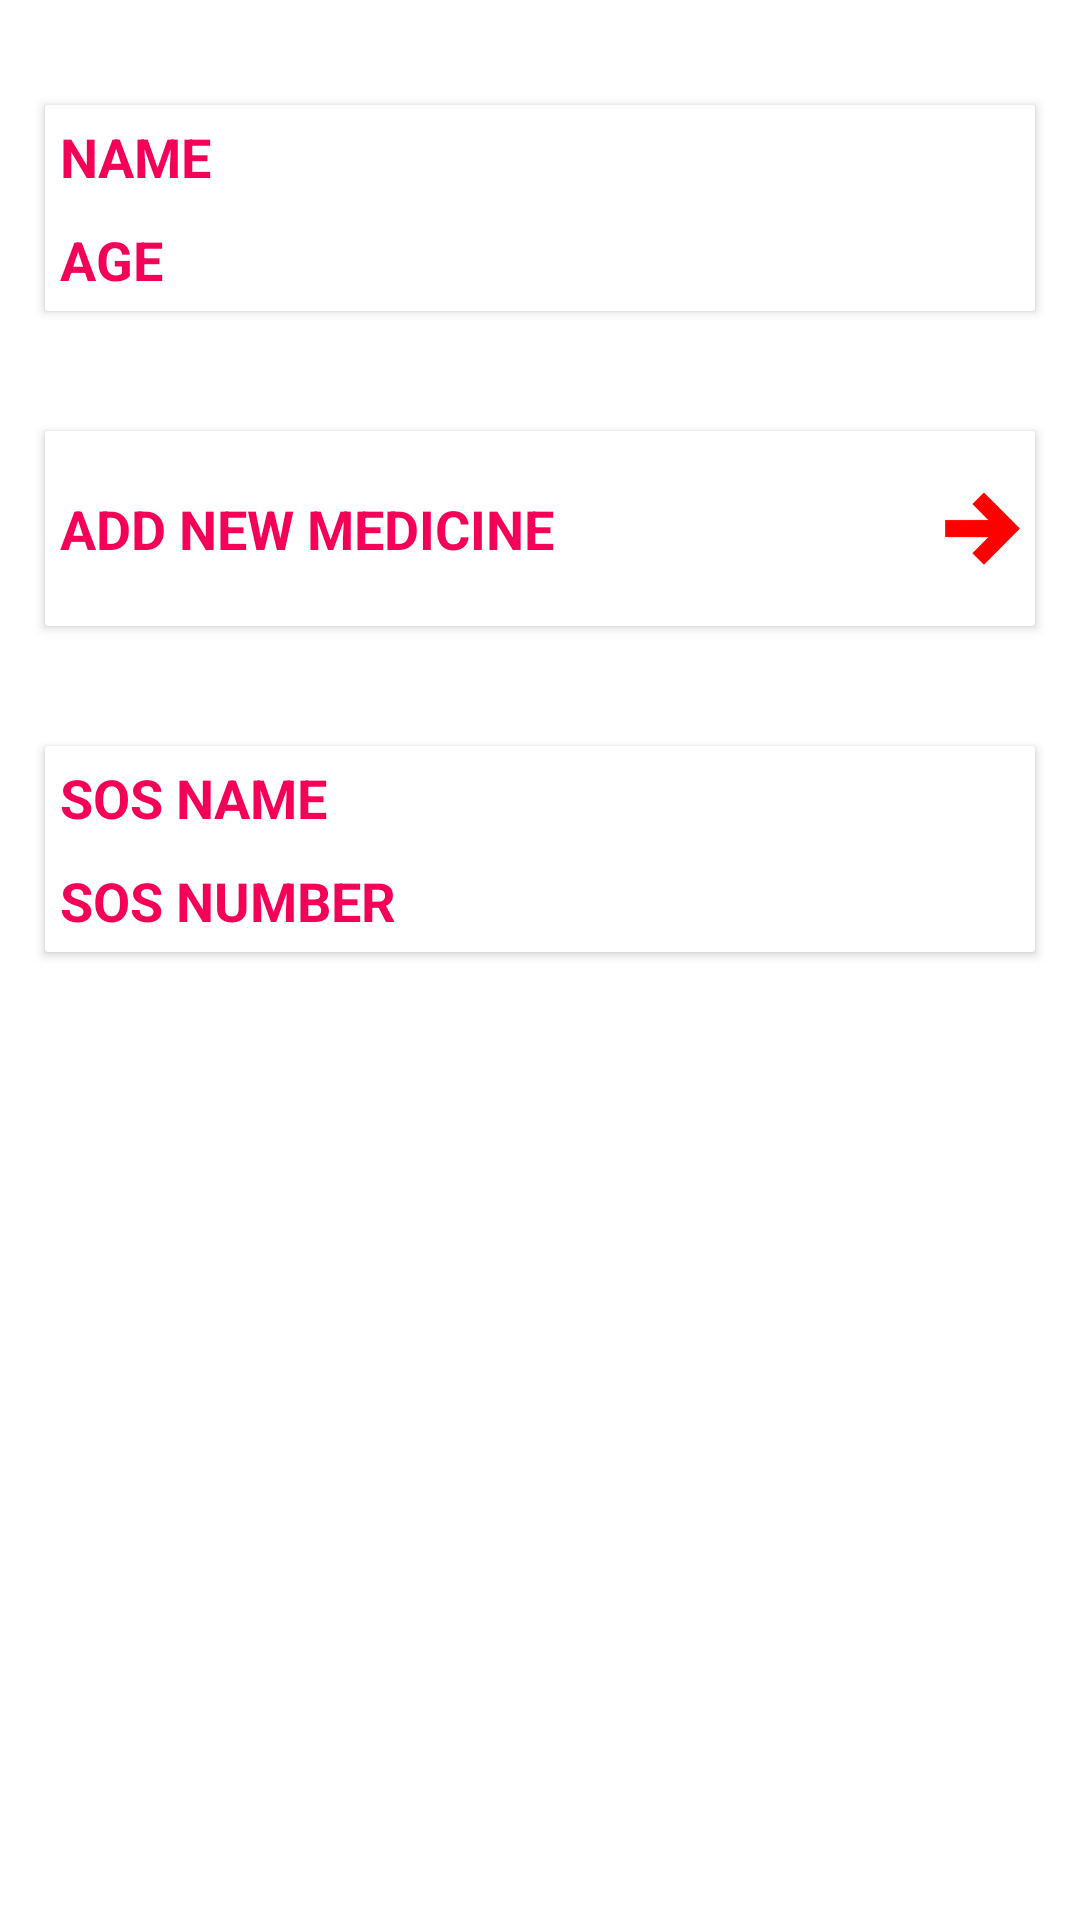

Icon click points for this 1080w x 1920h phone screenshot, format [x,y]:
right arrow: [982,528]
